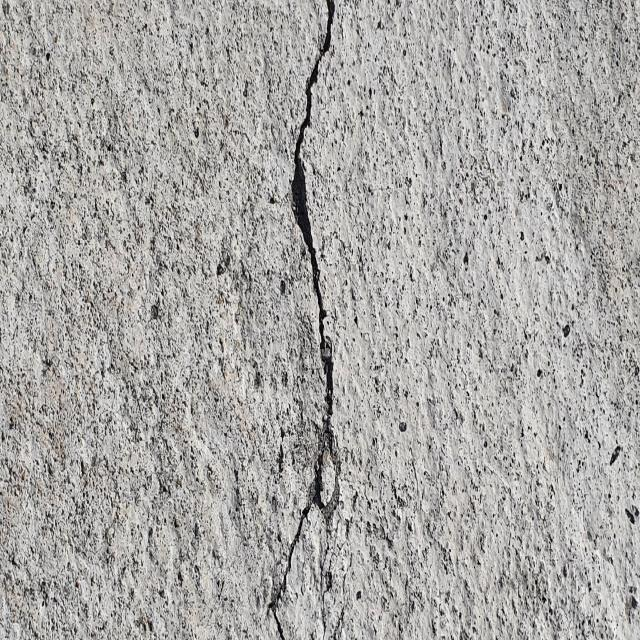SurfaceCrack: (228, 0, 390, 640)
